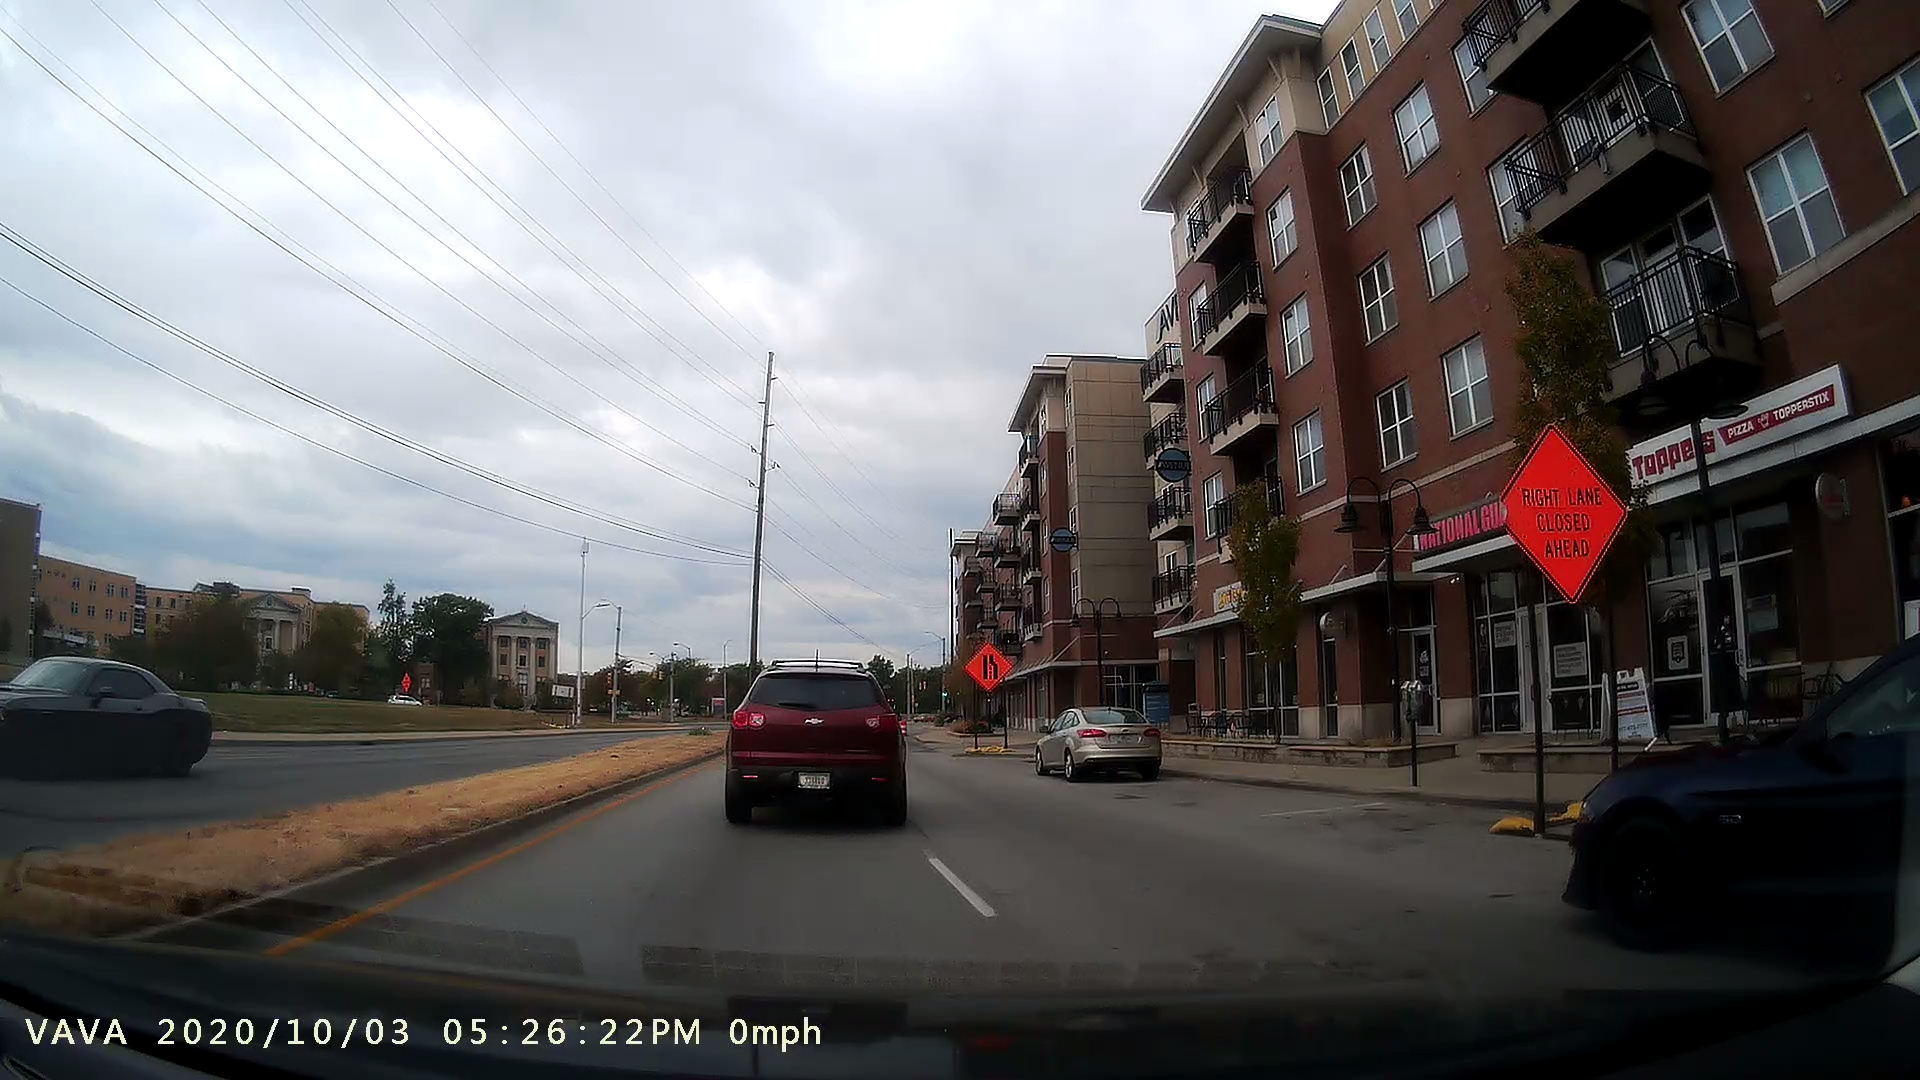ttcs_right_lane_closed_ahead: (1473, 421, 1665, 829)
ttcs_right_lane_reduction: (957, 625, 1023, 758)
